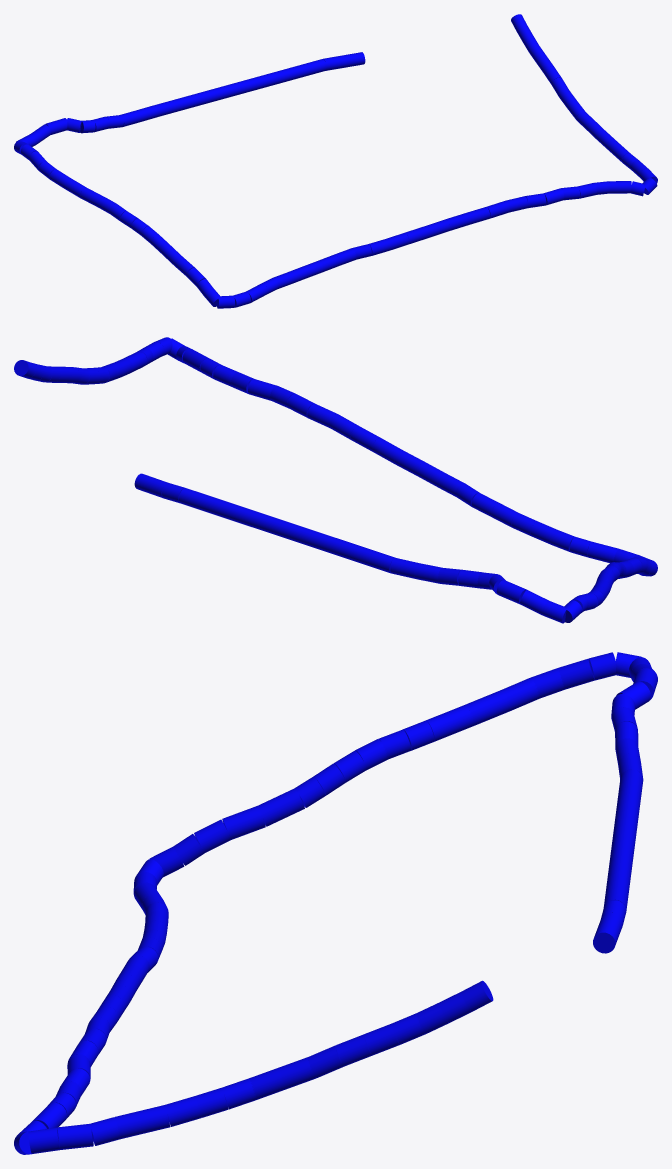
3 views of the same model, one above another, from view 1: azimuth 30°, elevation 25°; view 2: azimuth 150°, elevation 25°; view 3: azimuth 270°, elevation 25° (orthographic). The views are drawn at different scales.
Parts seen in each view (by area): view 1: Cylinder(Clone); view 2: Cylinder(Clone) (×8); view 3: Cylinder(Clone) (×17).
Boxes of the visible parts, <box> form: Cylinder(Clone): <box>153,59,326,117</box>; Cylinder(Clone) (×8): <box>134,426,618,604</box>; Cylinder(Clone) (×17): <box>57,658,643,1149</box>.
Bounding box in the file's own units: 0.4435 × 0.1191 × 0.2791.
